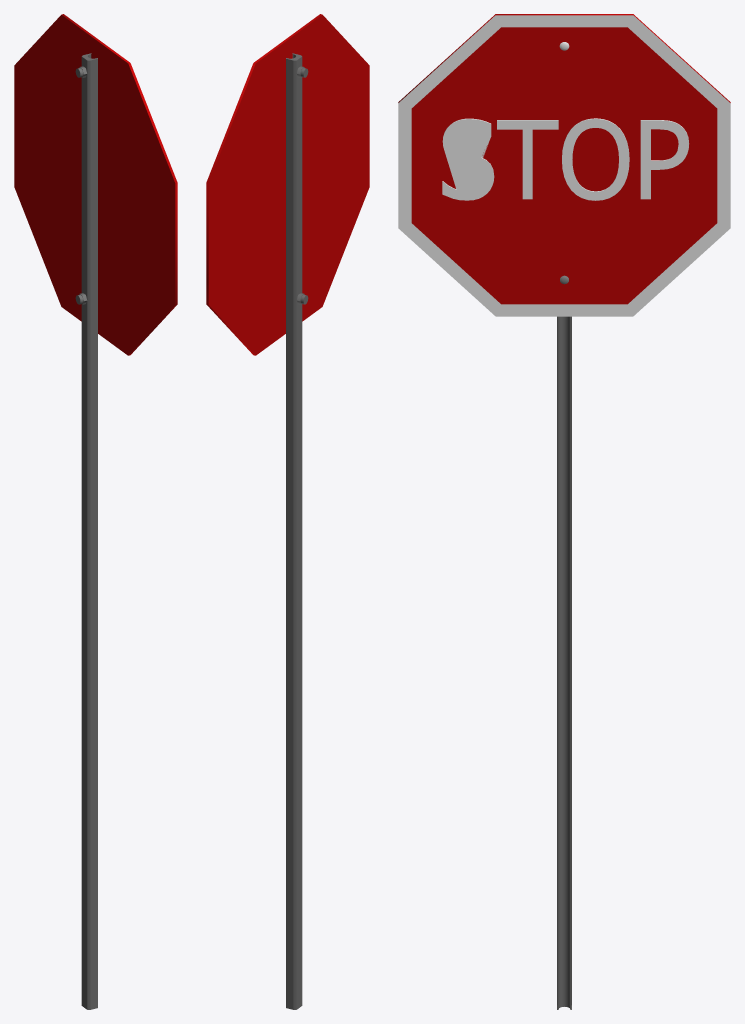
Rendered from StopSign.fbx.
3 renders of one model, left to right at view 1: azimuth 30°, elevation 25°; view 2: azimuth 150°, elevation 25°; view 3: azimuth 270°, elevation 25°, orthographic. The views are drawn at different scales.
Visible parts, largest first — view 1: Component1; view 2: Component1; view 3: Component1, STOP1.
Part boxes in pixels (x1,y1,x2,y2): Component1: (14,14,177,1009); Component1: (206,14,369,1009); Component1: (398,14,730,1009); STOP1: (442,118,689,200).
Size of the model in its own units: 0.0402 by 1.86 by 0.5632.
